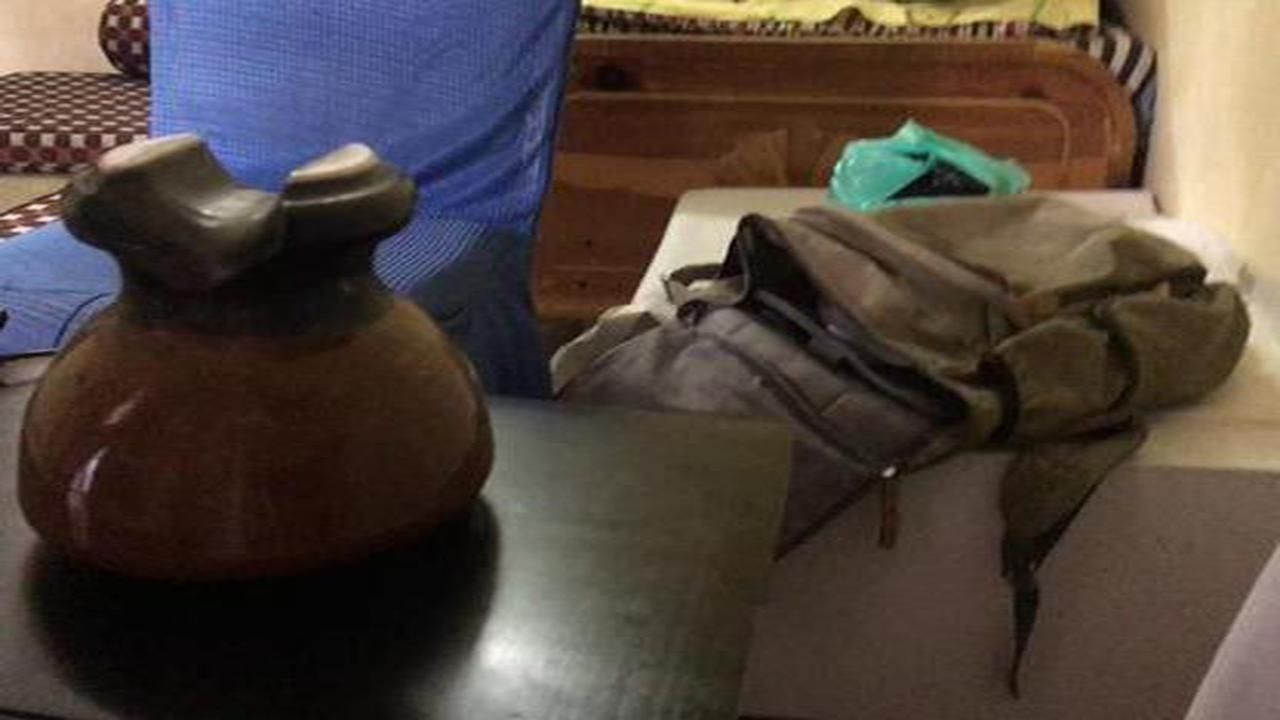insulator_pin: (16, 130, 508, 599)
